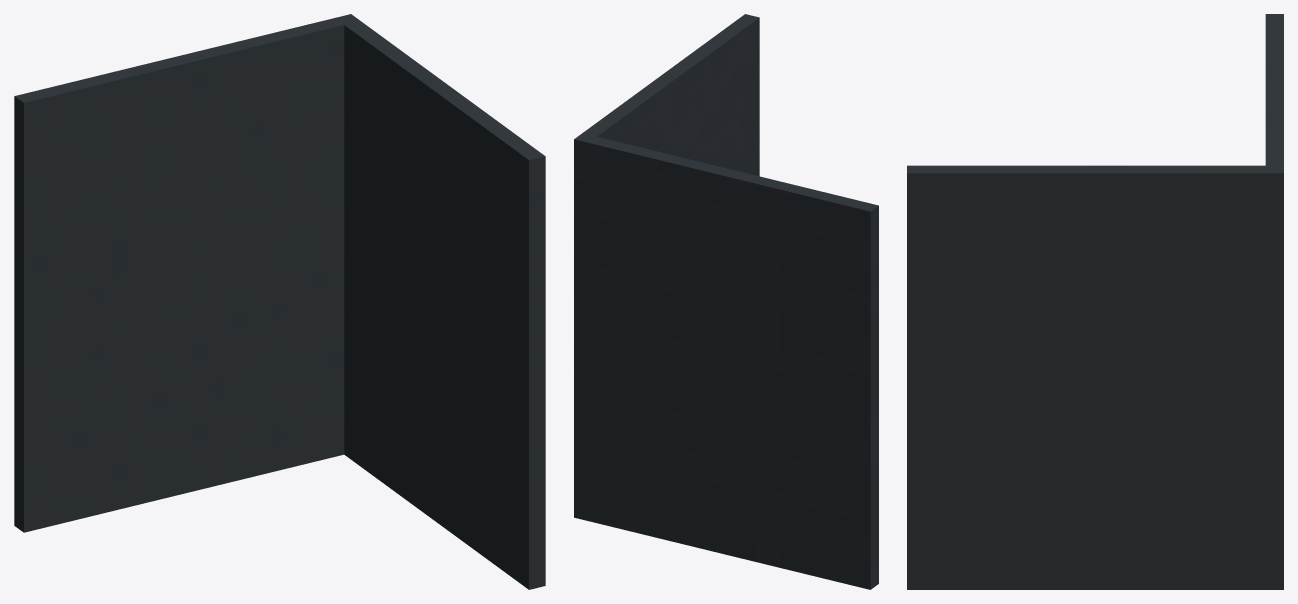
The model's file is Wall_05_LShape.fbx.
The picture shows the model from 3 angles, left to right: view 1: azimuth 30°, elevation 25°; view 2: azimuth 150°, elevation 25°; view 3: azimuth 270°, elevation 25°; orthographic projection. The views are drawn at different scales.
Parts seen in each view (by area): view 1: Wall_05_LShape; view 2: Wall_05_LShape; view 3: Wall_05_LShape.
Part boxes in pixels (bbox=[...]): Wall_05_LShape: bbox=[14, 14, 545, 589]; Wall_05_LShape: bbox=[574, 14, 878, 589]; Wall_05_LShape: bbox=[907, 14, 1283, 589].
Bounding box in the file's own units: 2.05 × 2.5 × 2.05.
